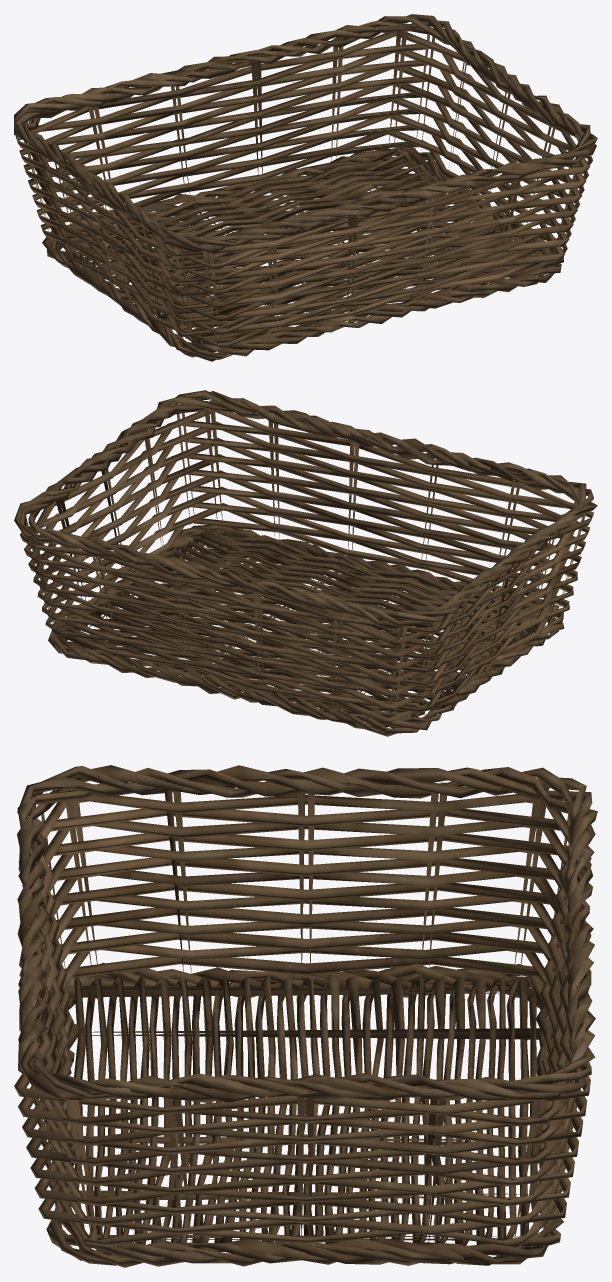
File: wicker_basket.glb
The picture shows the model from 3 angles, top to bottom: view 1: azimuth 30°, elevation 25°; view 2: azimuth 150°, elevation 25°; view 3: azimuth 270°, elevation 25°; orthographic projection. The views are drawn at different scales.
Parts seen in each view (by area): view 1: wicker_basket_01; view 2: wicker_basket_01; view 3: wicker_basket_01.
Boxes of the visible parts, x1=… form: wicker_basket_01: x1=14, y1=14, x2=597, y2=361; wicker_basket_01: x1=14, y1=390, x2=597, y2=736; wicker_basket_01: x1=14, y1=765, x2=597, y2=1267.
Size of the model in its own units: 0.3846 by 0.1187 by 0.2947.
Materials: 1 (1 with a texture image).
